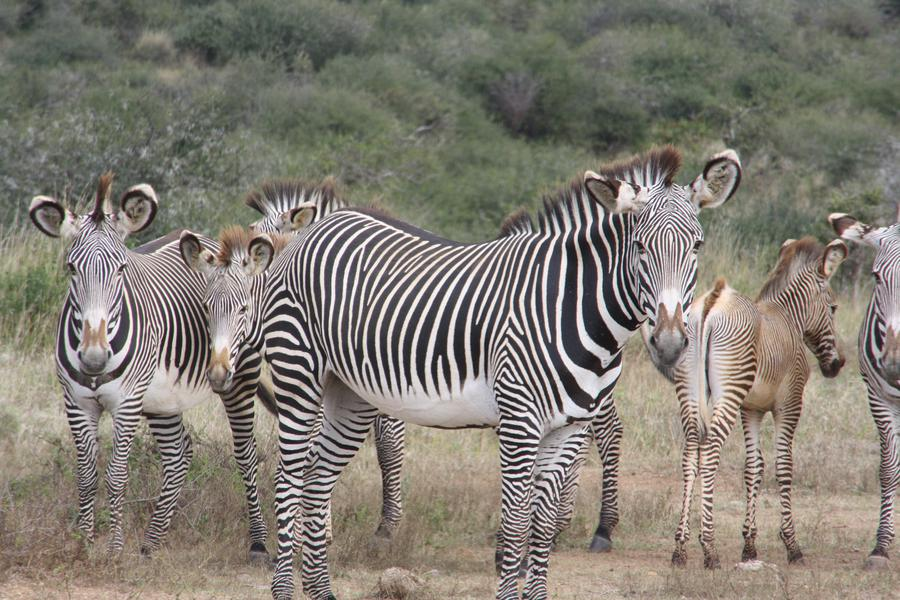zebra_grevys: (282, 194, 573, 421)
